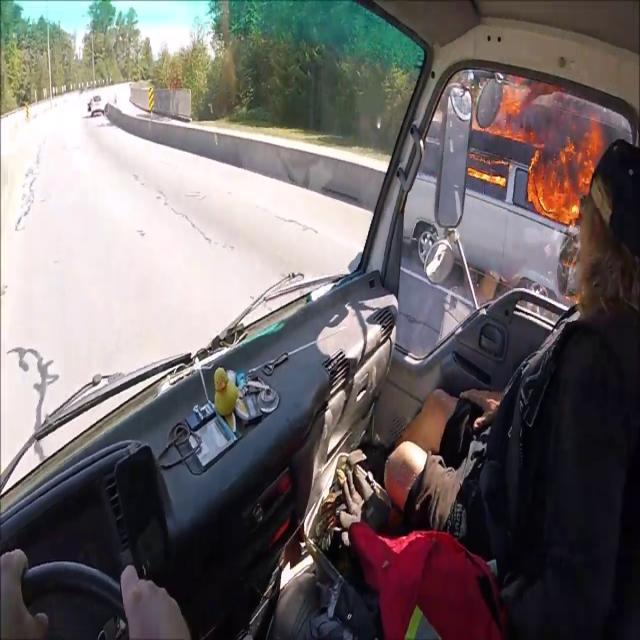Fire: (484, 78, 606, 224)
